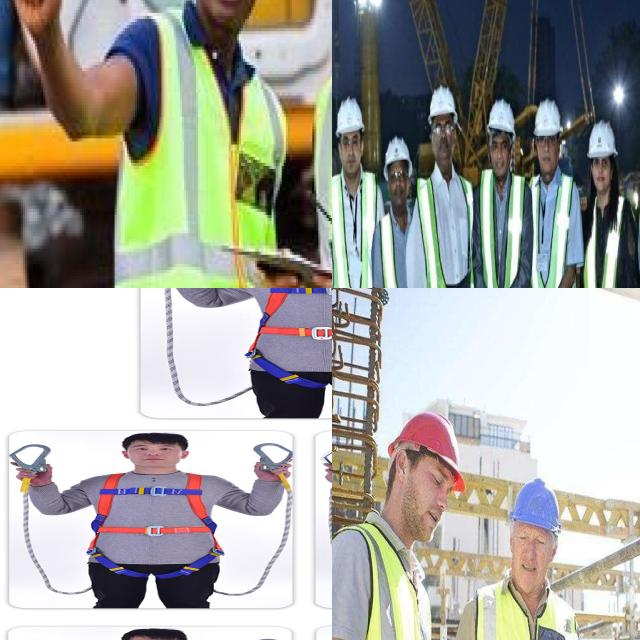Harness: (81, 472, 239, 578), (236, 288, 332, 389)
No_Ear-Protection: (393, 445, 409, 487)
No_Glasses: (512, 524, 552, 553), (424, 457, 448, 495)
face_nomask: (401, 458, 454, 548), (512, 520, 554, 596), (432, 113, 456, 172), (536, 129, 558, 181), (388, 161, 408, 209), (341, 134, 363, 174), (492, 135, 510, 177), (591, 154, 613, 187)
hand_noglove: (8, 0, 73, 34)
head_helmet: (386, 414, 466, 496), (508, 470, 562, 533), (534, 104, 562, 140), (587, 121, 615, 157), (428, 86, 457, 120), (336, 100, 362, 136), (385, 134, 411, 170), (485, 100, 515, 131)
person: (118, 0, 281, 288), (332, 402, 463, 640), (466, 476, 579, 640), (416, 86, 473, 288), (469, 96, 528, 288), (524, 101, 583, 288), (577, 116, 633, 288), (332, 97, 377, 288), (375, 134, 419, 288)
vest: (120, 20, 283, 288), (332, 532, 443, 640), (462, 585, 582, 640), (476, 172, 527, 288), (422, 174, 472, 288), (581, 190, 631, 288), (332, 174, 374, 288), (531, 178, 573, 288), (382, 210, 419, 288)
